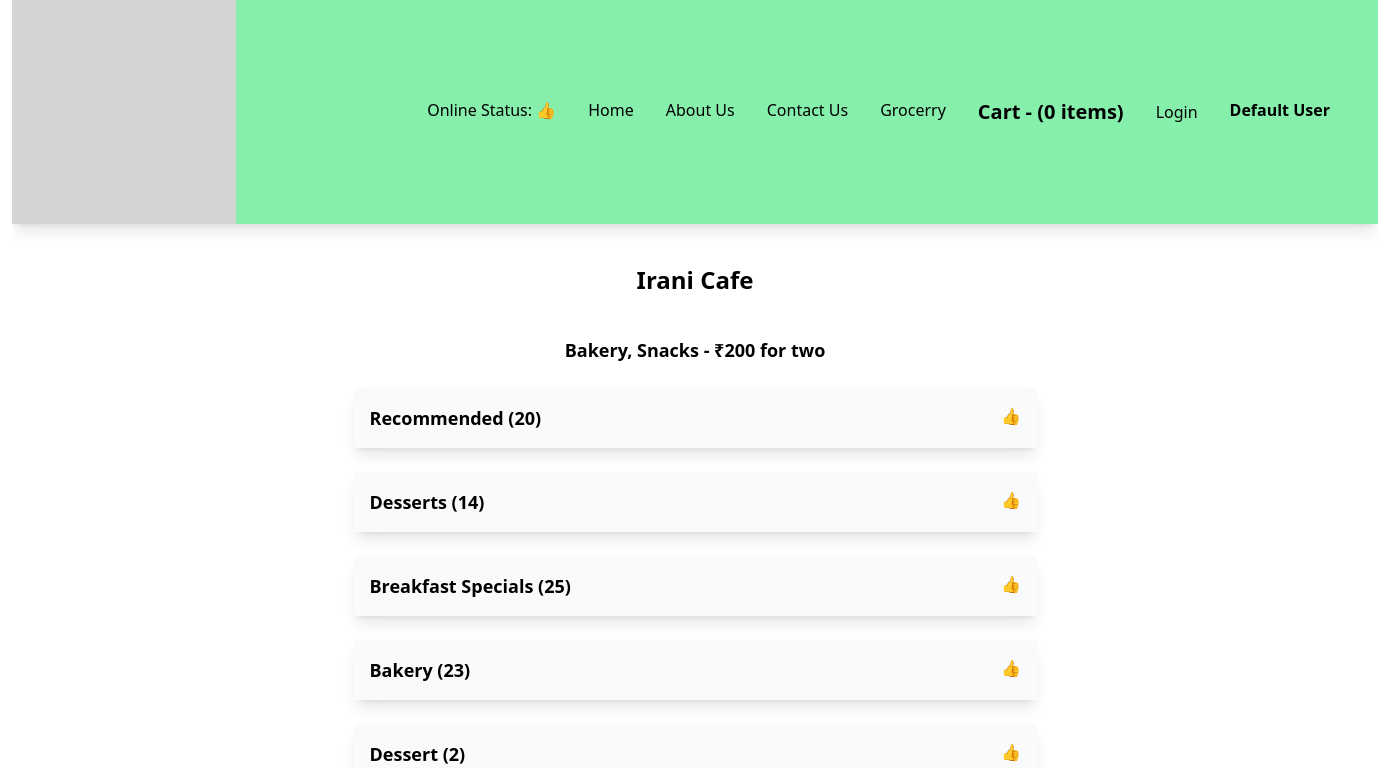
Test: should load RestaurantMenu component
Click the text "Recommended (20)" at [455, 418], box [370, 404, 541, 432]
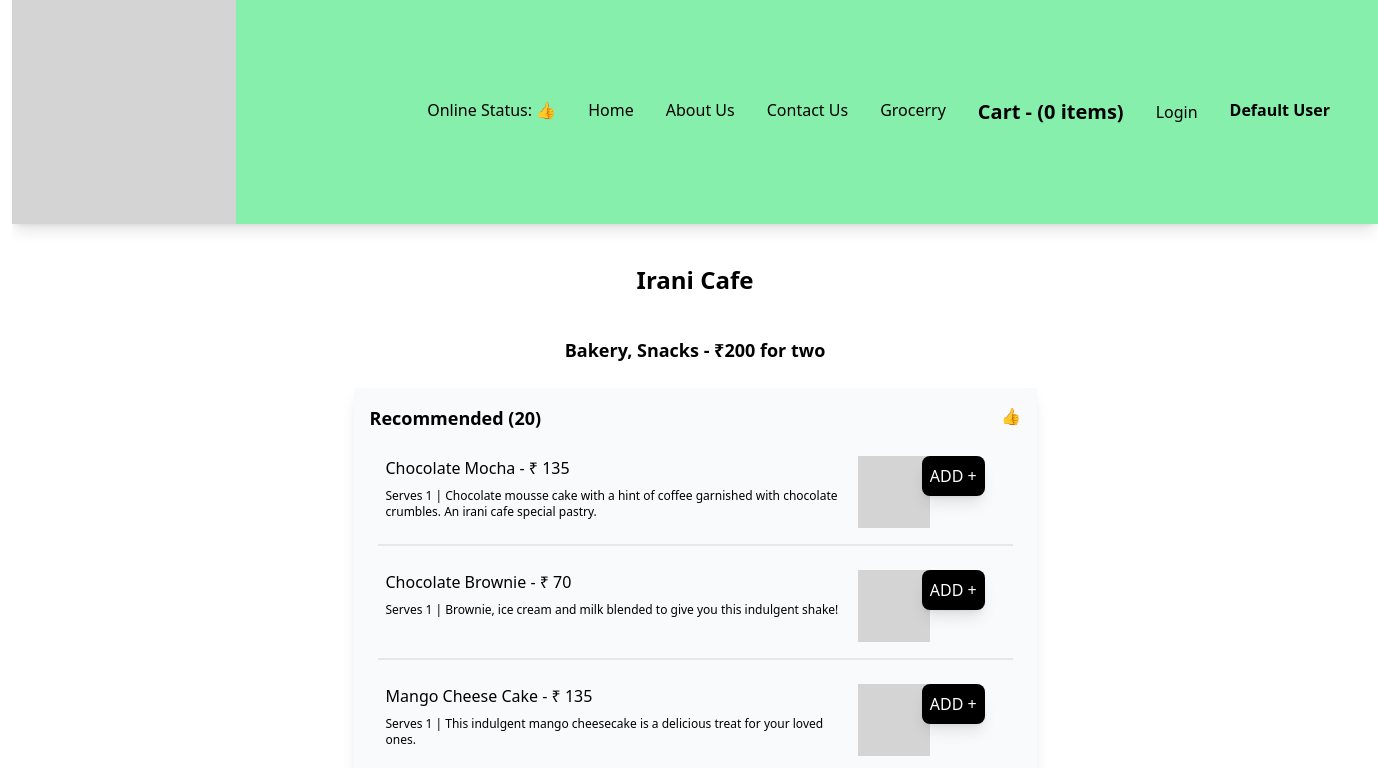
Now the number of elements with test id "foodItem" is 20
Click the button "ADD +" in the row of "Chocolate Mocha" at [953, 476], box [922, 456, 985, 496]
(page scrolled)
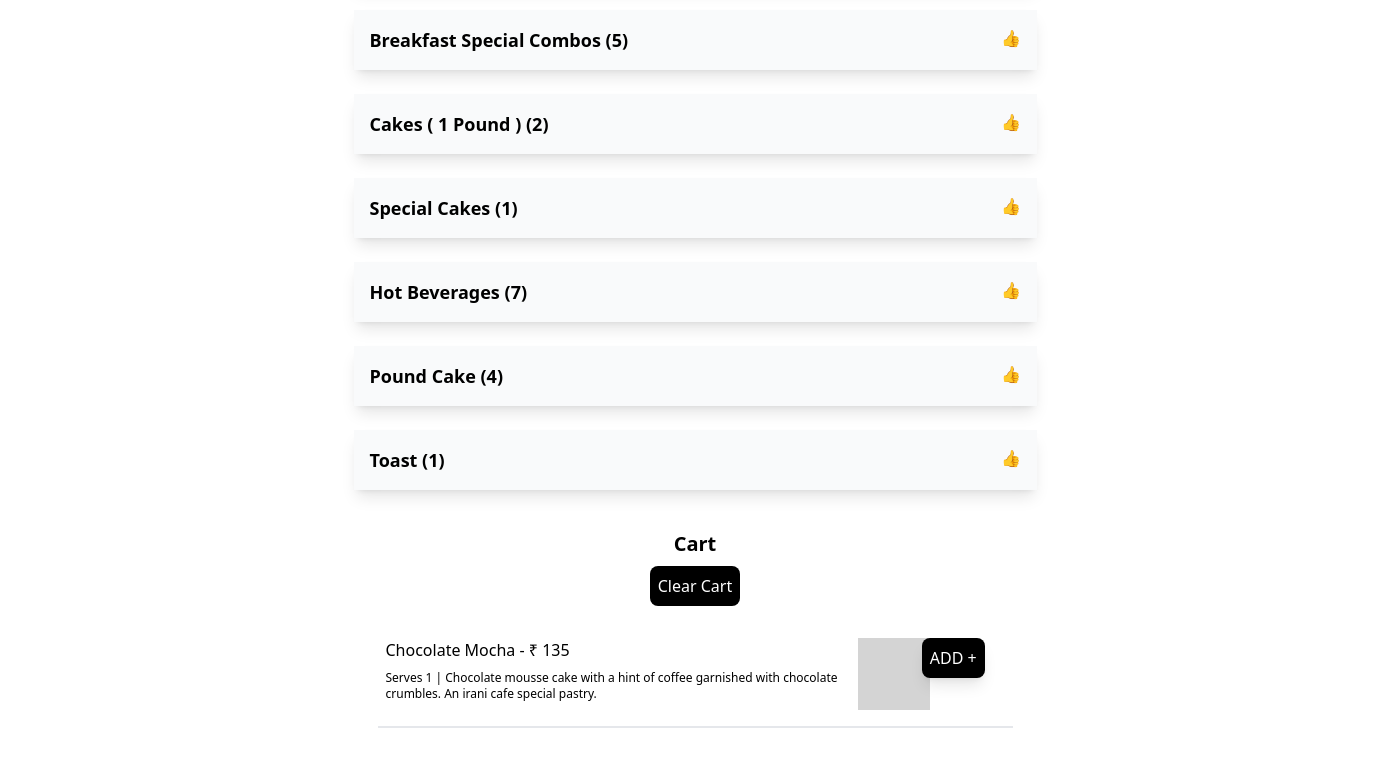
Click the button "Clear Cart" at [695, 586], box [650, 566, 740, 606]
(page scrolled)
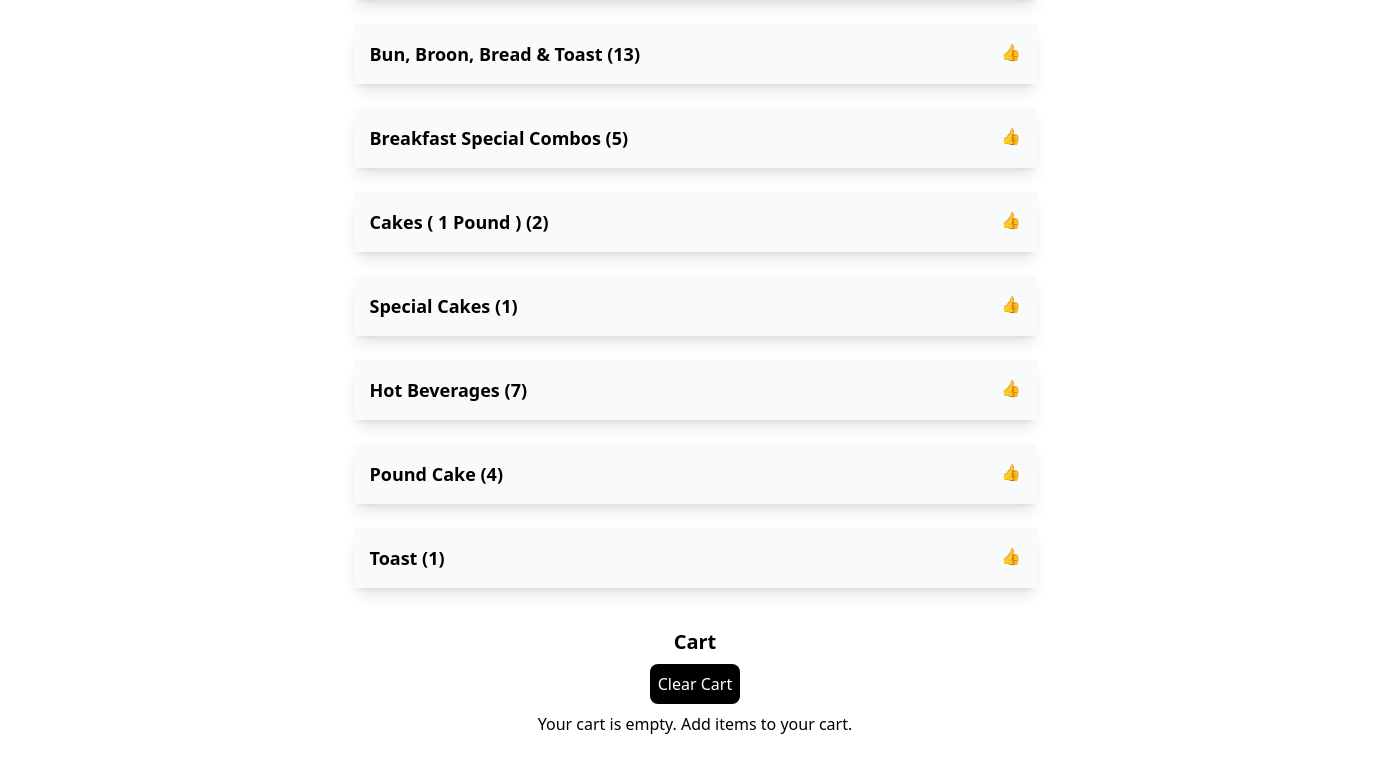
Now the heading "Your cart is empty. Add items to your cart." is shown, box [538, 713, 852, 735]
